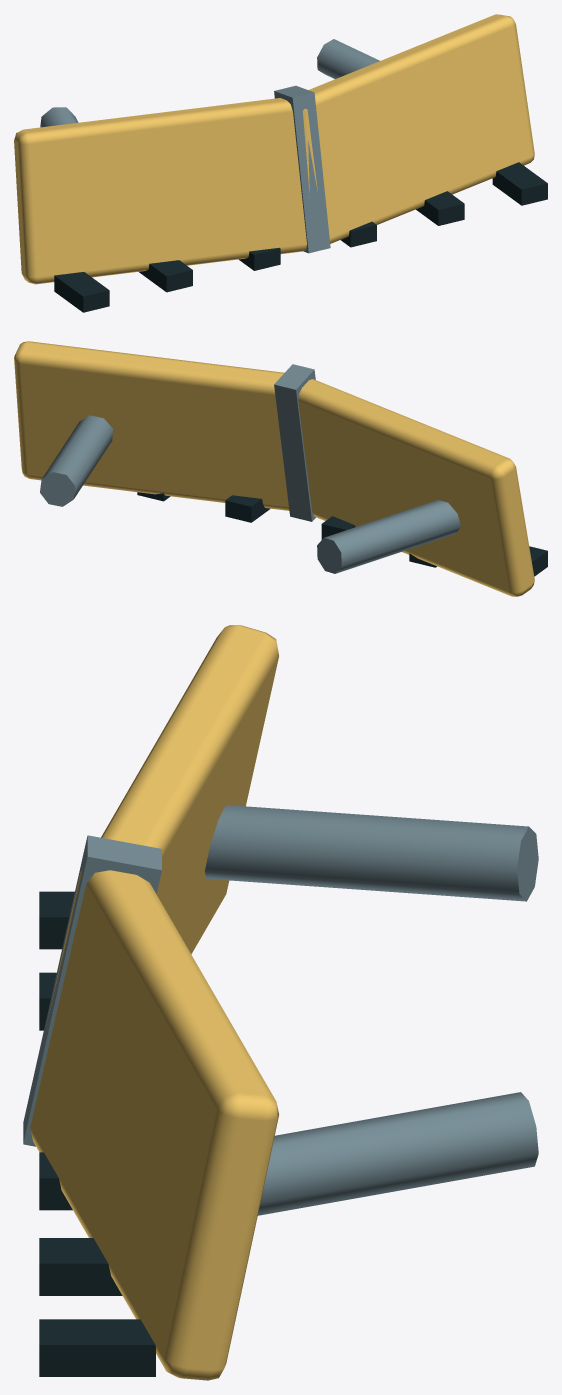
File: upgrade-plow_blade.glb
3 views of the same model, one above another, from view 1: azimuth 30°, elevation 25°; view 2: azimuth 150°, elevation 25°; view 3: azimuth 270°, elevation 25° (orthographic). The views are drawn at different scales.
Parts seen in each view (by area): view 1: upgrade-plow_blade; view 2: upgrade-plow_blade; view 3: upgrade-plow_blade.
Boxes of the visible parts, <box> form: upgrade-plow_blade: <box>14,14,547,312</box>; upgrade-plow_blade: <box>14,341,547,596</box>; upgrade-plow_blade: <box>23,625,538,1380</box>.
Bounding box in the file's own units: 2.31 × 0.6635 × 1.02.
